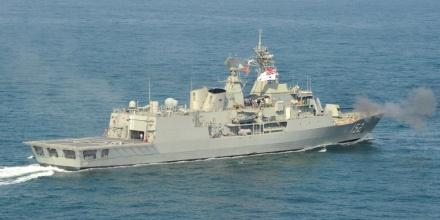warship: (21, 30, 387, 171)
